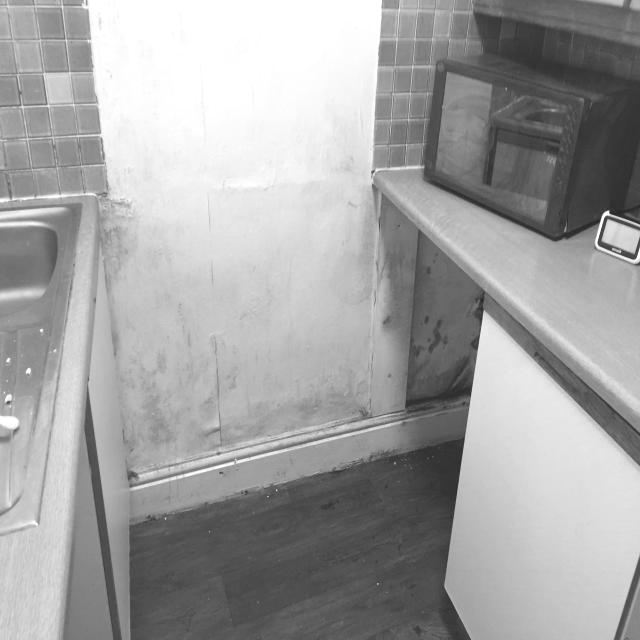stain marks: (92, 187, 498, 507)
